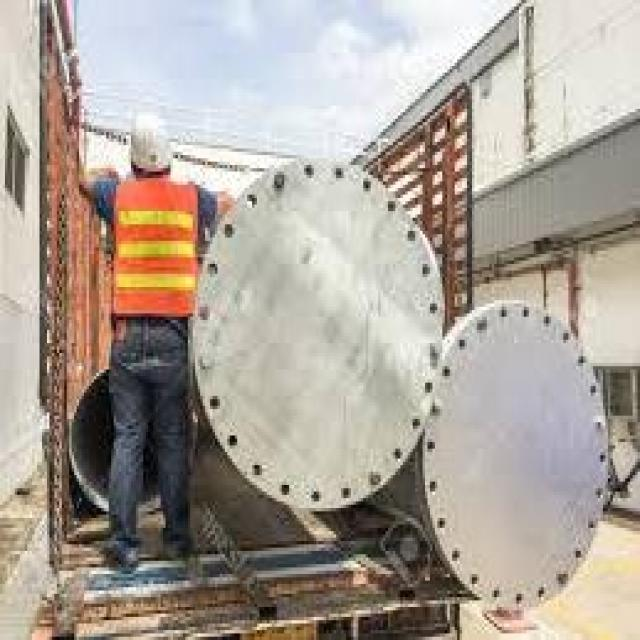Reflective-Jacket: (94, 172, 217, 336)
Safety-Helmet: (119, 96, 182, 178)
